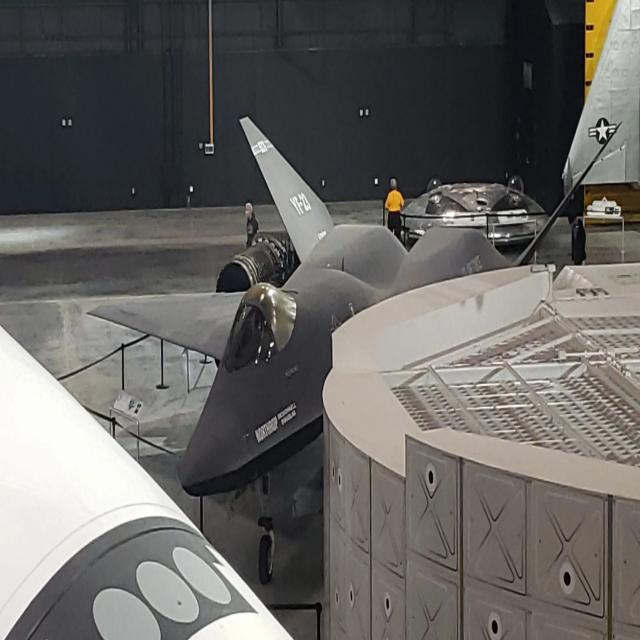MIL_Plane: (85, 116, 622, 585)
